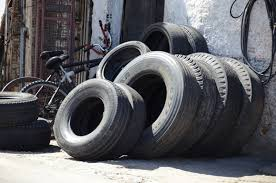tire: (118, 50, 190, 163), (56, 78, 126, 161), (86, 86, 150, 162), (95, 39, 156, 93), (136, 19, 190, 67)
